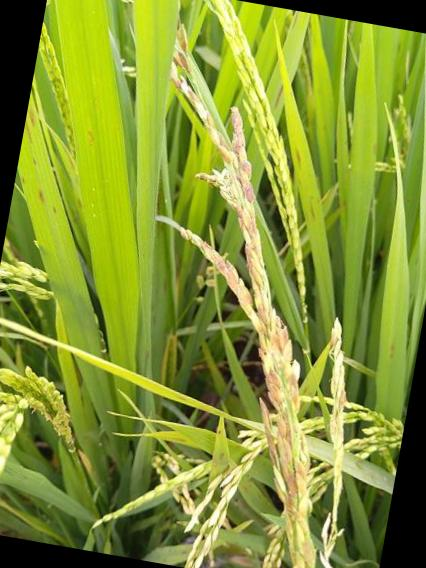Panicle Blight: (200, 239, 251, 307), (230, 106, 256, 205), (243, 210, 266, 288), (277, 418, 297, 507), (258, 396, 277, 465), (204, 117, 230, 162), (272, 316, 293, 364), (173, 21, 191, 69), (265, 368, 284, 413), (172, 76, 200, 104), (193, 168, 223, 190), (294, 456, 311, 487), (256, 304, 271, 336), (290, 372, 300, 415), (303, 529, 313, 566), (230, 204, 245, 228), (337, 386, 348, 418), (330, 319, 341, 348), (258, 340, 268, 363)
